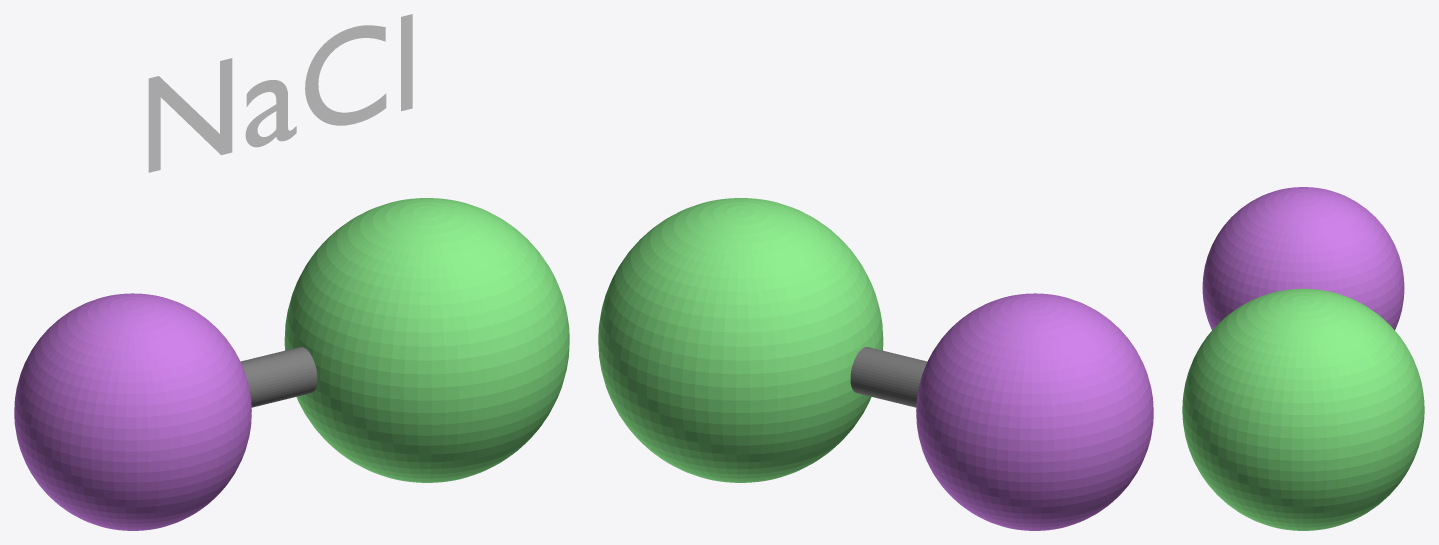
File: NaCl.glb
3 views of the same model, side by side, from view 1: azimuth 30°, elevation 25°; view 2: azimuth 150°, elevation 25°; view 3: azimuth 270°, elevation 25° (orthographic). The views are drawn at different scales.
Parts seen in each view (by area): view 1: Cl, Na, Label, Bond; view 2: Cl, Na, Bond; view 3: Cl, Na.
Part boxes in pixels (x1,y1,x2,y2): Cl: (284,198,569,482); Na: (14,293,251,530); Label: (148,14,412,172); Bond: (240,347,317,407); Cl: (598,198,883,482); Na: (916,293,1153,530); Bond: (850,347,927,407); Cl: (1182,288,1424,530); Na: (1202,187,1404,330).
Size of the model in its own units: 1.77 by 1.5 by 0.84.
